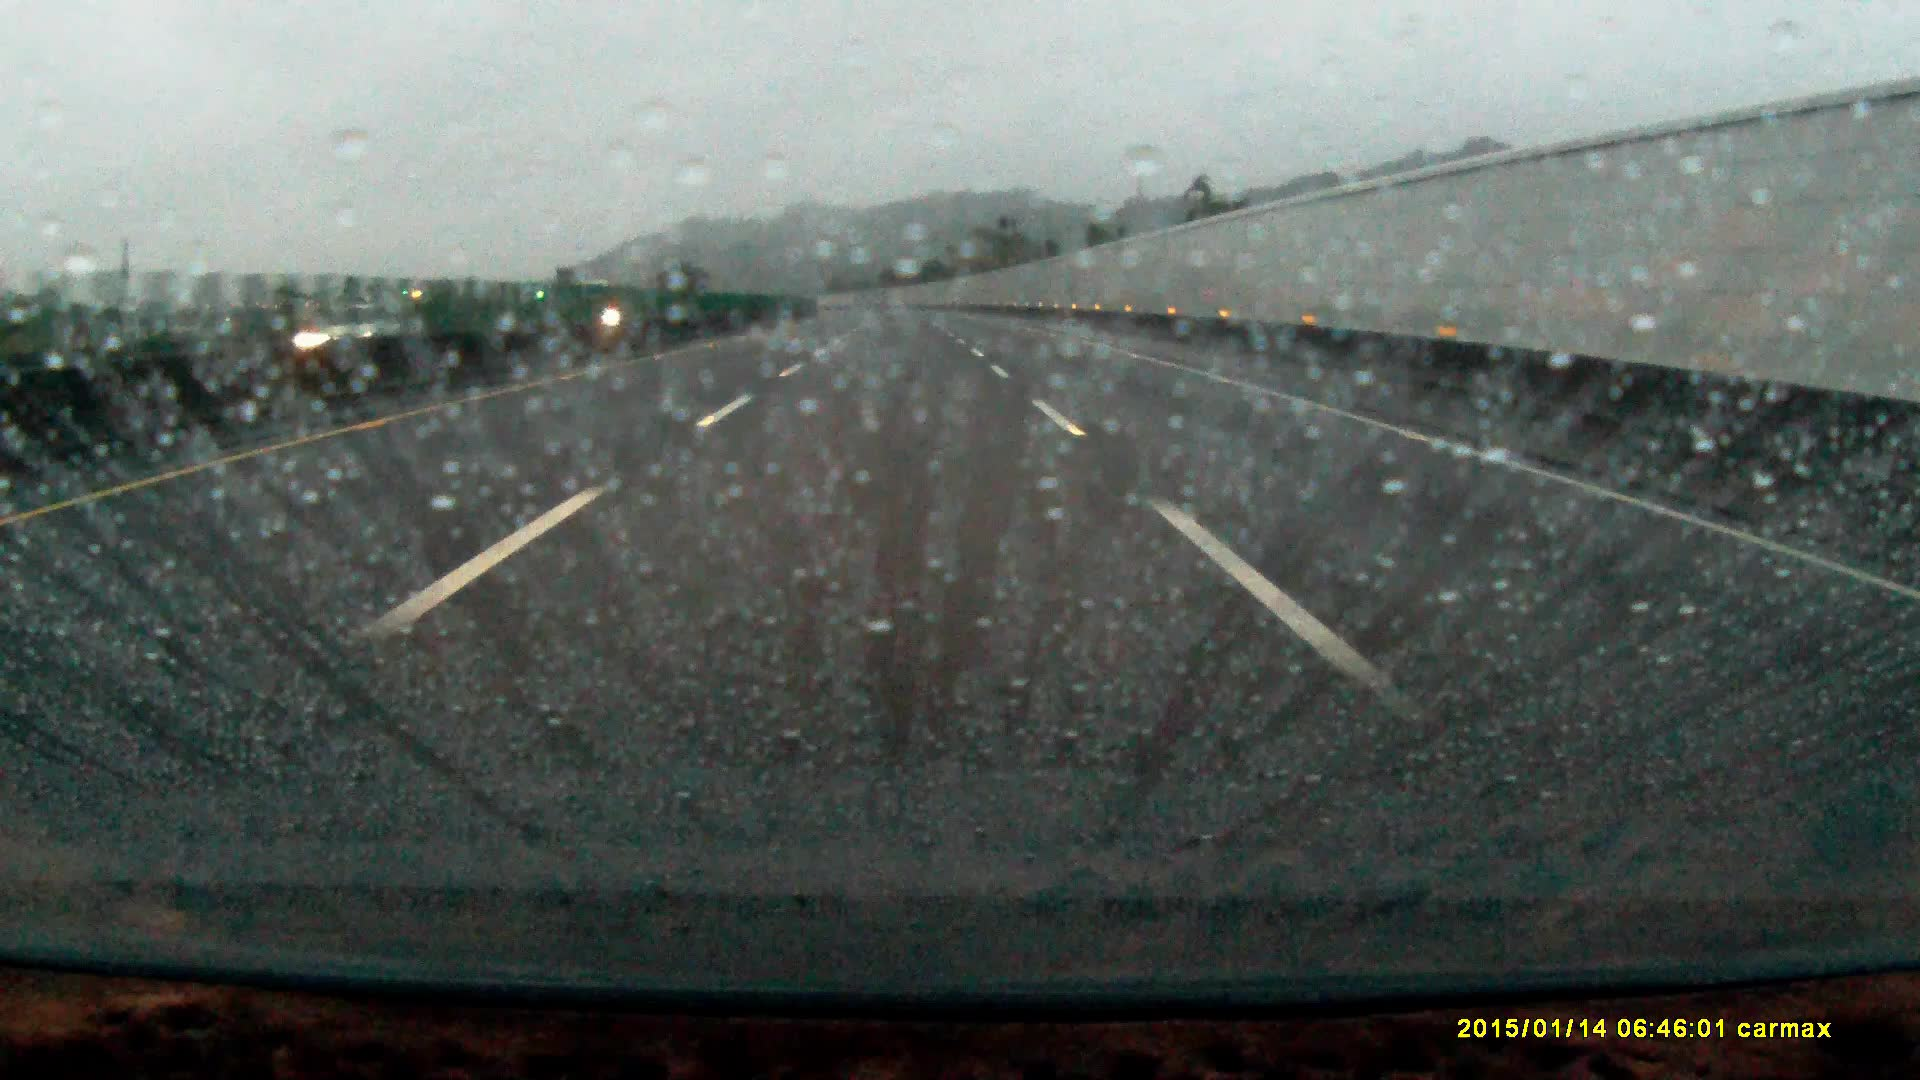vehicle: (295, 295, 422, 349), (579, 297, 651, 328)
